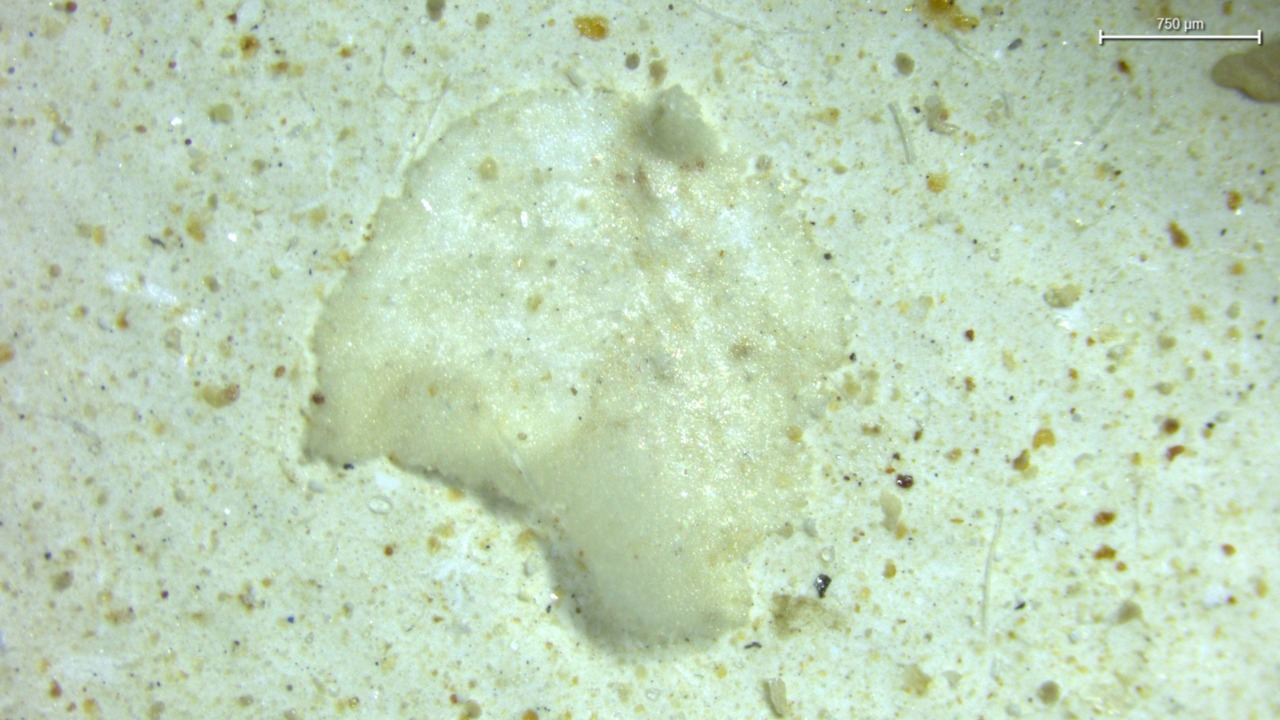microplastic_fragment: (309, 88, 856, 636)
